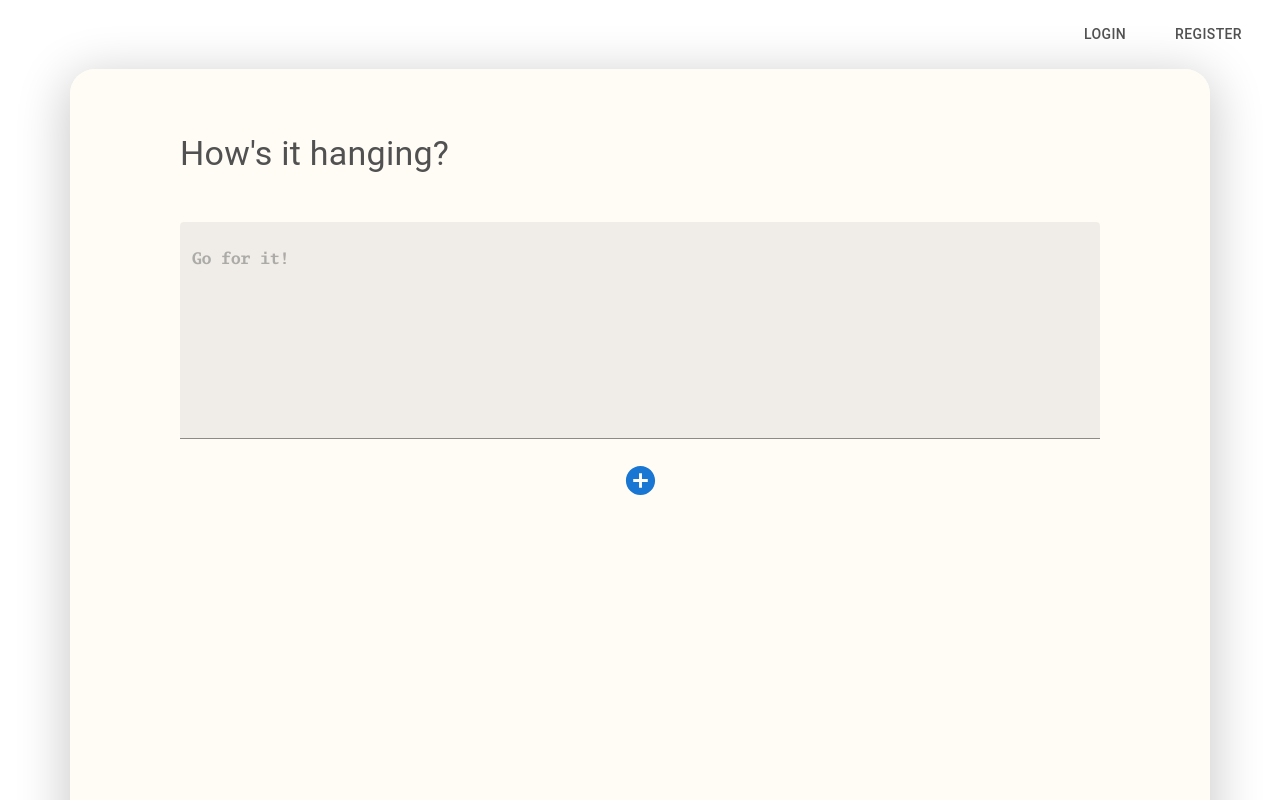
it: Application tests › can remove a message
In the text box with placeholder "Go for it!": (640, 340) [192, 248, 1088, 432], type "Some text!"
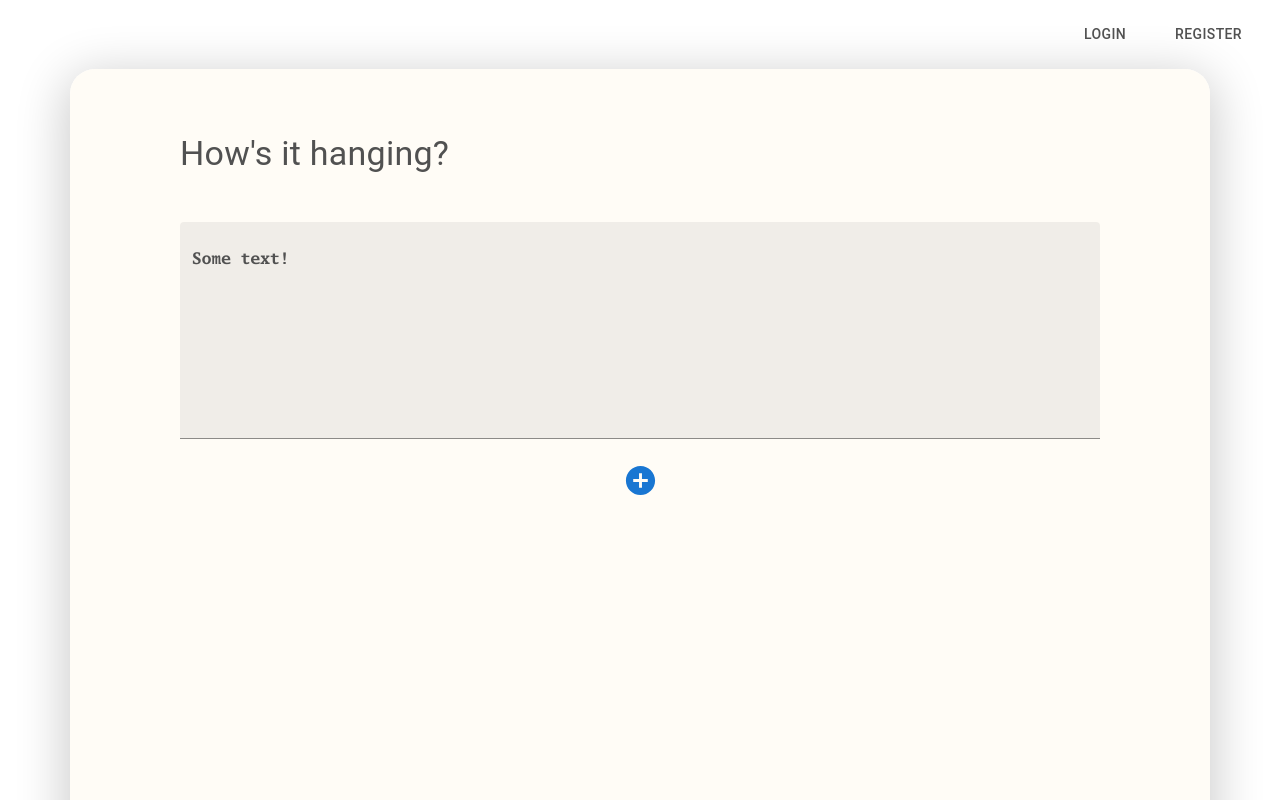
Click the icon with test id "submit-message": (640, 481) [622, 464, 658, 498]
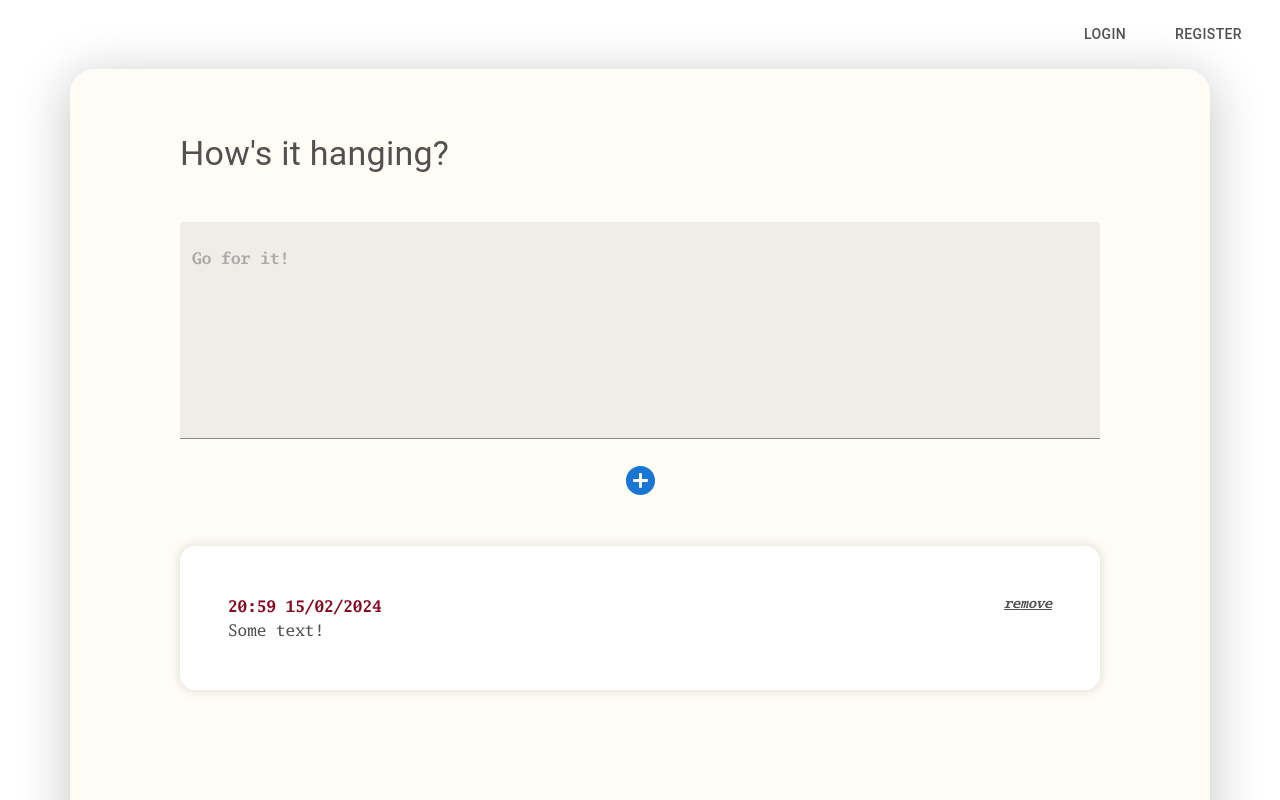
Now the text "Some text!" is shown, box [228, 622, 324, 640]
Click the text "remove": (1028, 604) [1004, 594, 1052, 614]
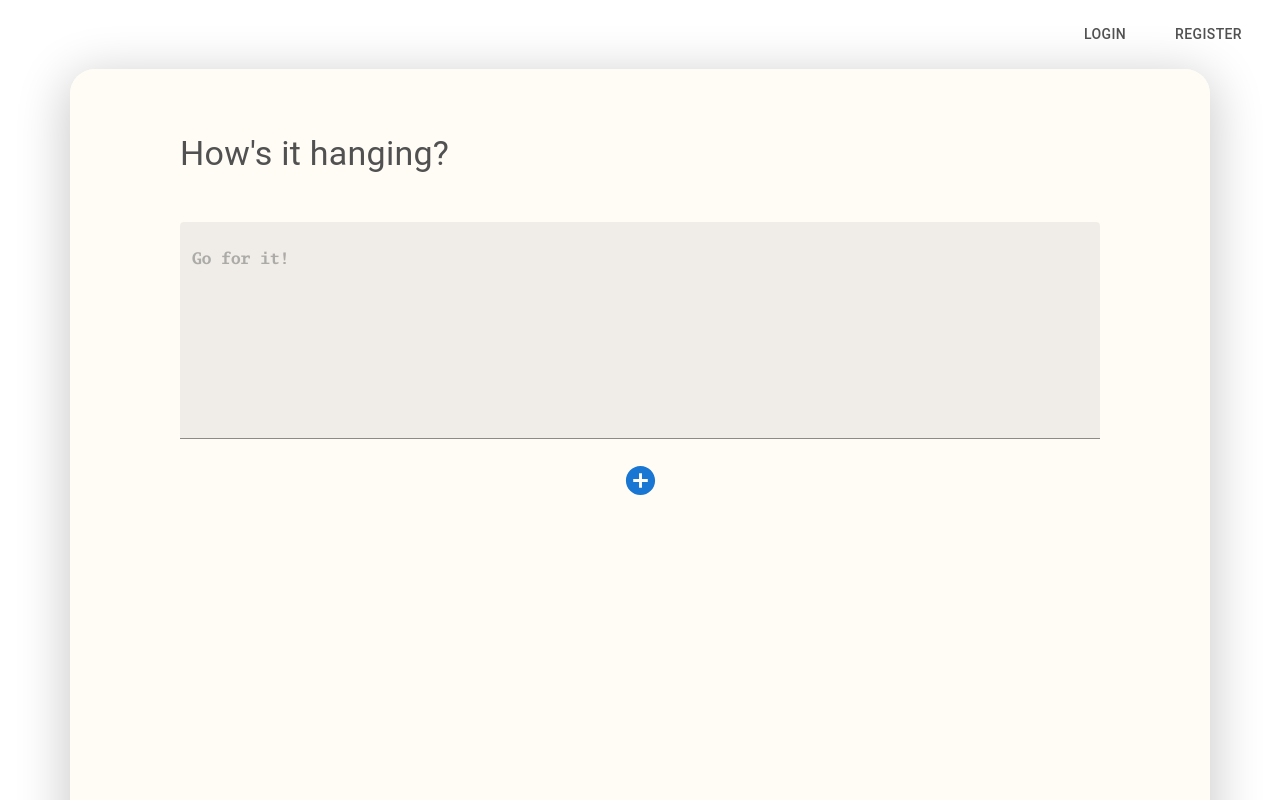
Now the text "Some text!" is gone
